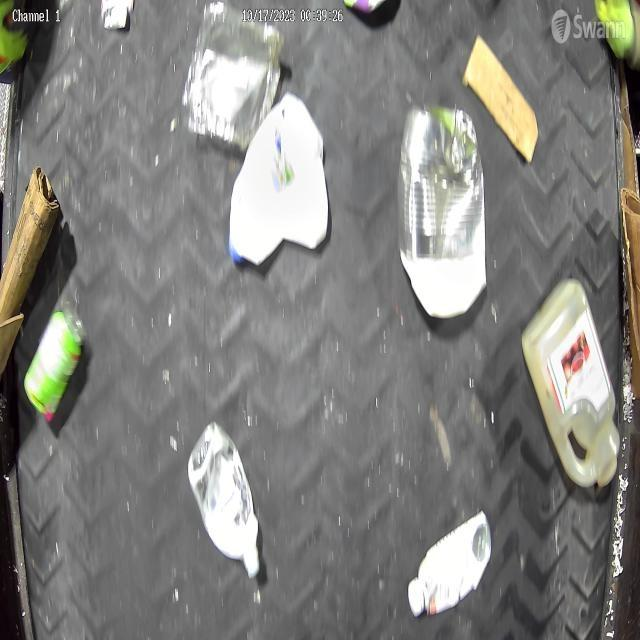milk_jug: (522, 281, 618, 491), (226, 92, 328, 265)
